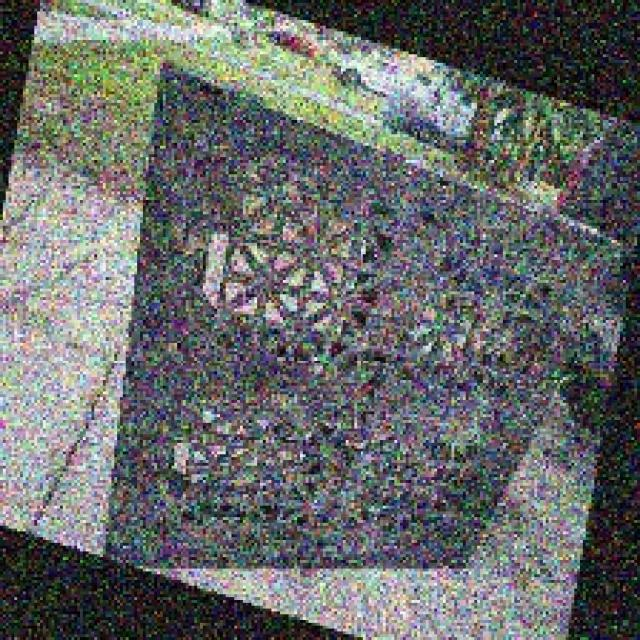igps: (96, 52, 634, 578)
